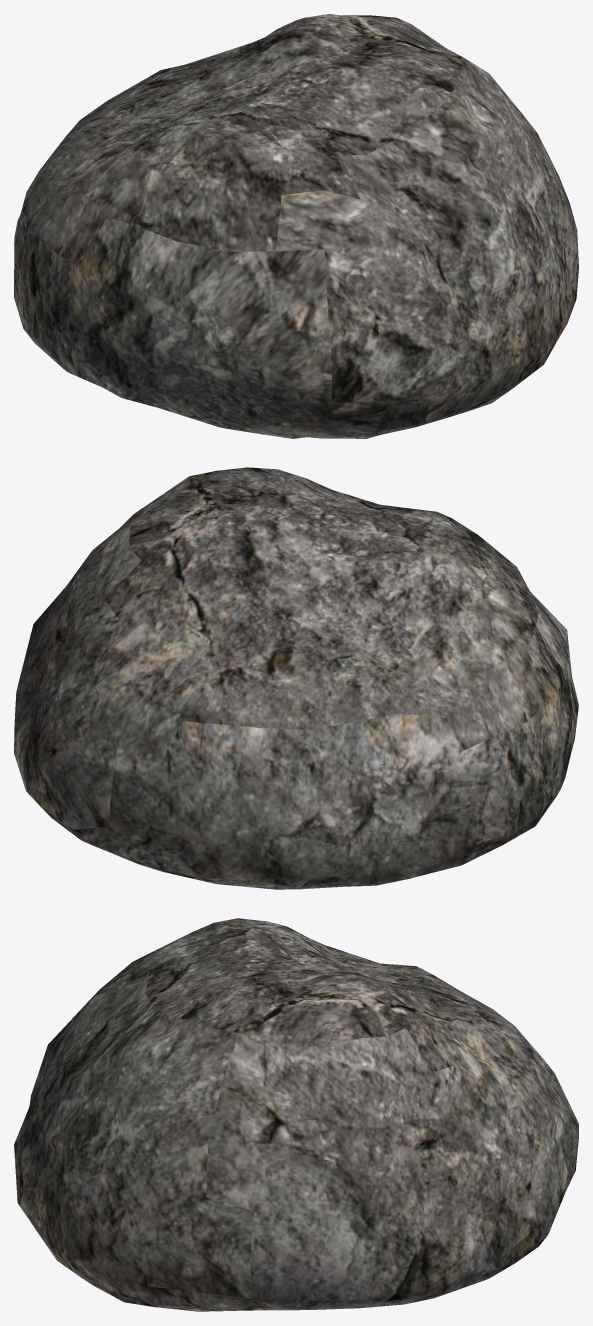
The model's file is rock.fbx.
The picture shows the model from 3 angles, top to bottom: view 1: azimuth 30°, elevation 25°; view 2: azimuth 150°, elevation 25°; view 3: azimuth 270°, elevation 25°; orthographic projection. The views are drawn at different scales.
Parts seen in each view (by area): view 1: Sphere; view 2: Sphere; view 3: Sphere.
Part boxes in pixels (<box>): Sphere: <box>14,14,578,438</box>; Sphere: <box>14,467,578,889</box>; Sphere: <box>14,918,578,1311</box>.
Bounding box in the file's own units: 12.78 × 7.44 × 12.91.
